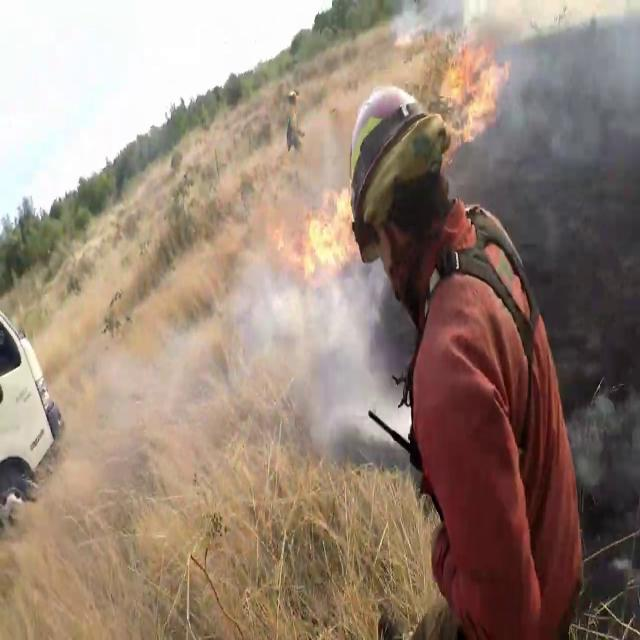Fire: (294, 170, 358, 282)
Smoke: (233, 240, 394, 466)
